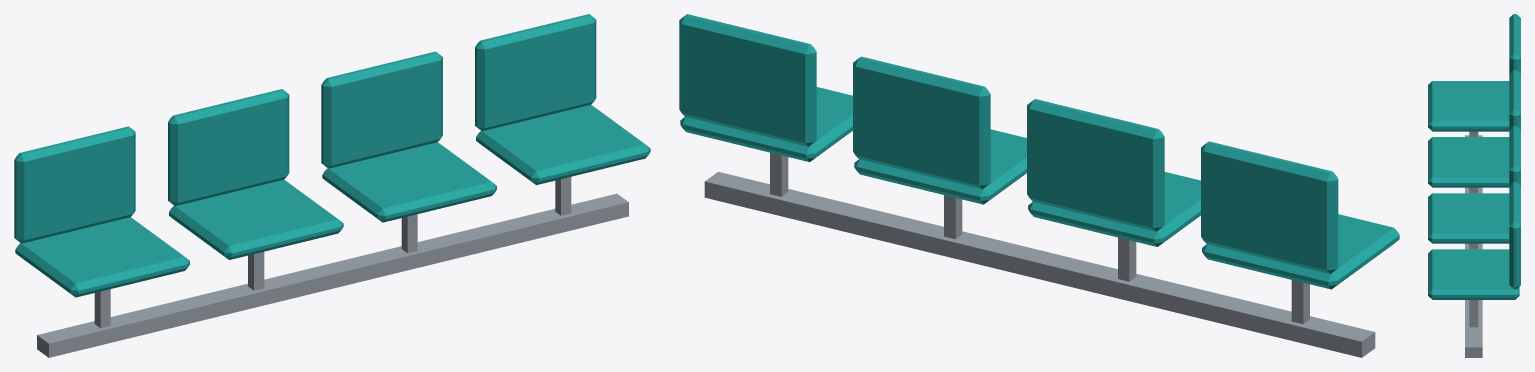
The model's file is chairs.fbx.
3 renders of one model, left to right at view 1: azimuth 30°, elevation 25°; view 2: azimuth 150°, elevation 25°; view 3: azimuth 270°, elevation 25°, orthographic. The views are drawn at different scales.
Parts seen in each view (by area): view 1: chairs; view 2: chairs; view 3: chairs.
Boxes of the visible parts, x1=… form: chairs: x1=14, y1=14, x2=650, y2=357; chairs: x1=679, y1=14, x2=1399, y2=357; chairs: x1=1428, y1=14, x2=1520, y2=357.
Size of the model in its own units: 3.4 by 1 by 0.63.
